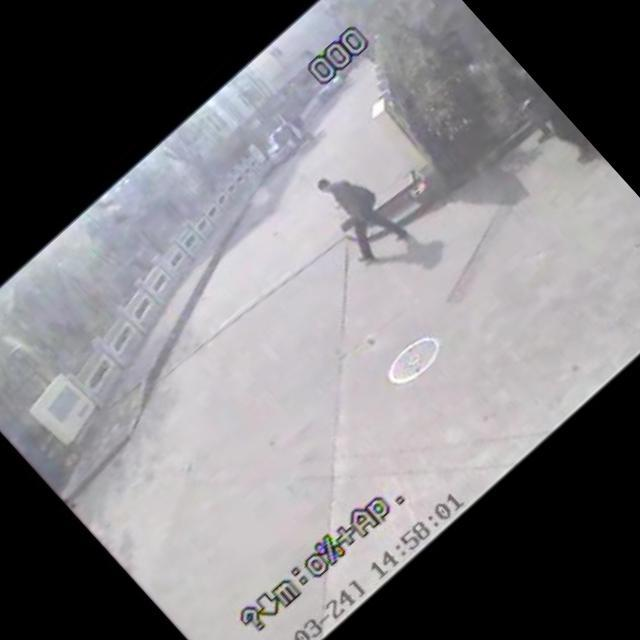person: (298, 154, 413, 272), (500, 64, 600, 170), (285, 108, 322, 146), (270, 125, 300, 158)
